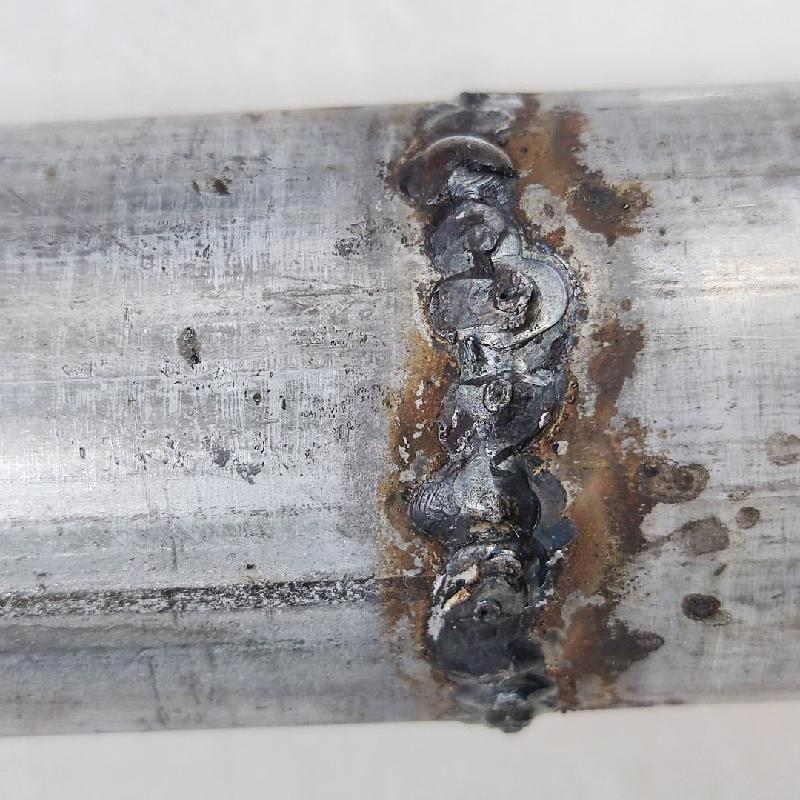Surface_pores: (481, 275, 521, 315), (465, 594, 509, 630), (480, 375, 513, 414)
Weld: (393, 145, 522, 200)
wrong_size: (398, 90, 574, 738)
